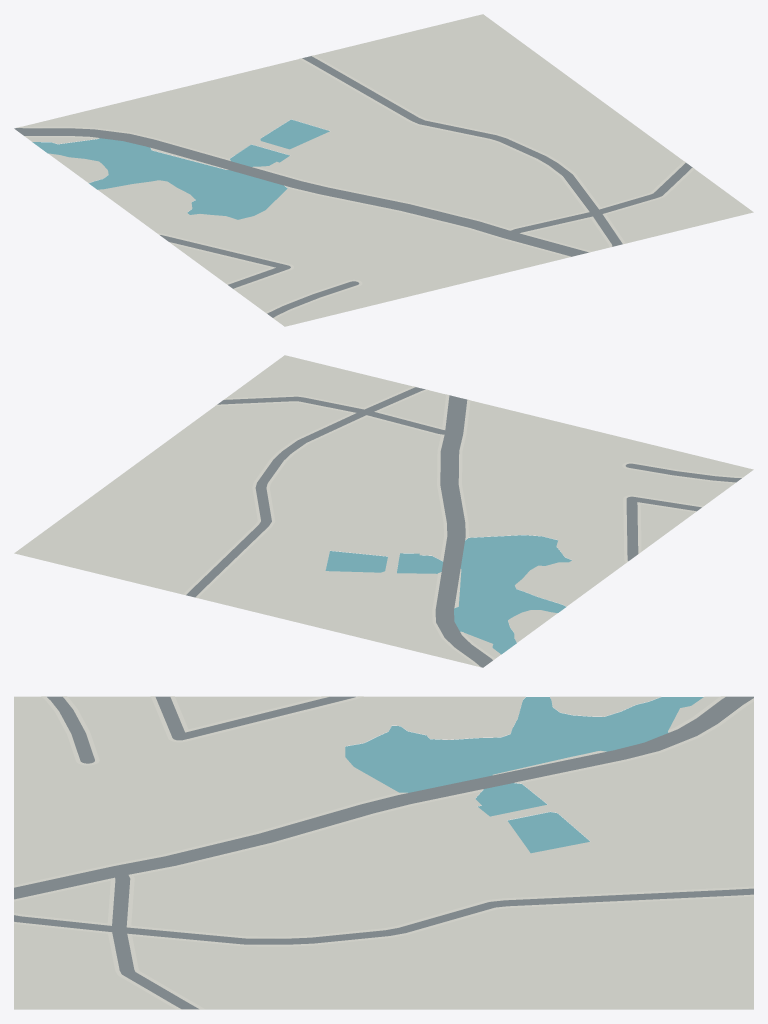
The picture shows the model from 3 angles, top to bottom: view 1: azimuth 30°, elevation 25°; view 2: azimuth 150°, elevation 25°; view 3: azimuth 270°, elevation 25°; orthographic projection. The views are drawn at different scales.
Parts seen in each view (by area): view 1: city; view 2: city; view 3: city.
Boxes of the visible parts, x1,y1,x2,y2 form: city: (14,14,753,326); city: (14,355,753,667); city: (14,696,753,1009).
Bounding box in the file's own units: 500 × 0.4 × 500.
